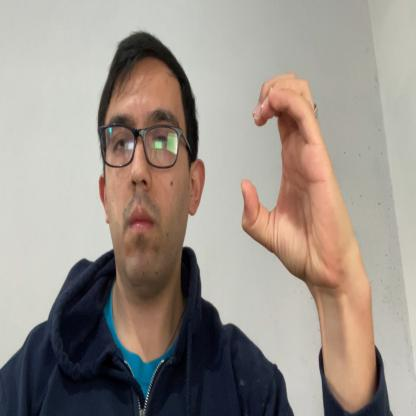C: (240, 73, 350, 289)
